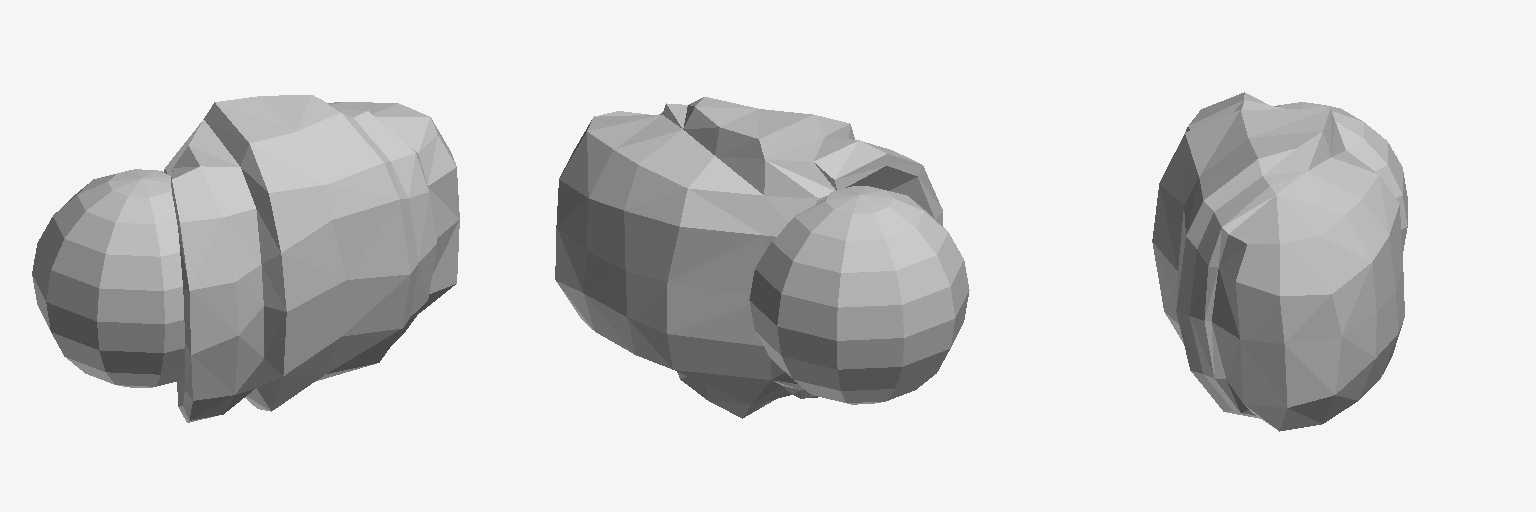
File: LFinger13.obj
The picture shows the model from 3 angles: view 1: azimuth 30°, elevation 25°; view 2: azimuth 150°, elevation 25°; view 3: azimuth 270°, elevation 25°; orthographic projection.
Size of the model in its own units: 0.2263 by 0.1517 by 0.126.